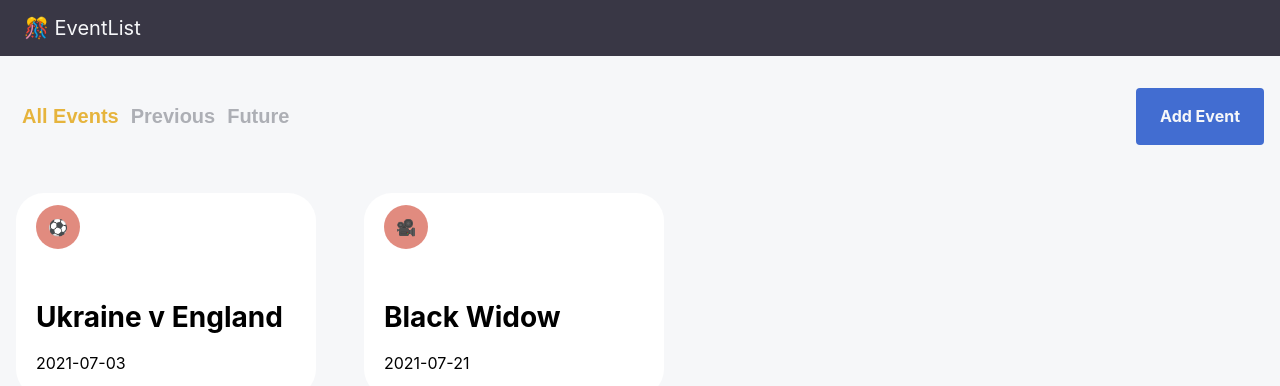
Test: Home page › Filters using All/Prev/Future buttons
What coordinates should you click on to do the following:
click the button "Previous"
I would click on:
 (174, 117)
Its box is [125, 104, 222, 129].
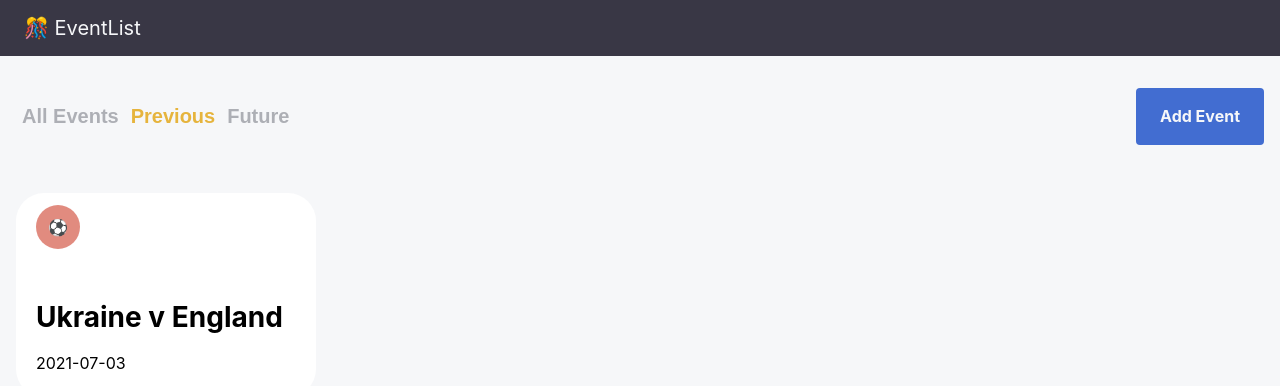
Expected: the number of headings with class "event-title" is 1, [36, 300, 296, 334]
Expected: the heading with class "event-title" reads "Ukraine v England", [36, 300, 283, 334]
What coordinates should you click on to do the following:
click the button "Future"
I would click on:
 (258, 117)
Its box is [221, 104, 295, 129].
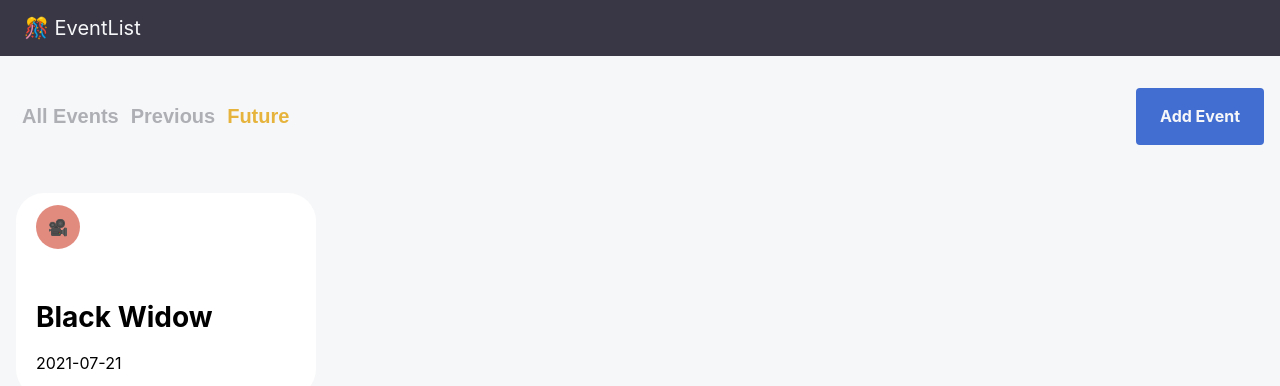
Expected: the number of headings with class "event-title" is 1, [36, 300, 213, 334]
Expected: the heading with class "event-title" reads "Black Widow", [36, 300, 213, 334]
What coordinates should you click on to do the following:
click the button "All Events"
I would click on:
 (71, 117)
Its box is [16, 104, 125, 129].
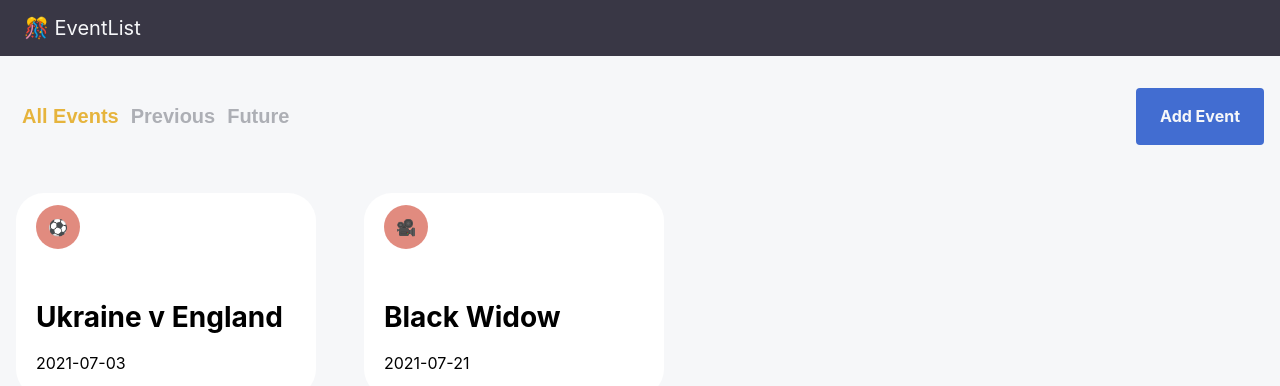
Expected: the heading with class "event-title" reads "Black Widow", [384, 300, 561, 334]
Expected: the number of headings with class "event-title" is 2, [36, 300, 296, 334]; [384, 300, 561, 334]
Expected: the heading with class "event-title" reads "Ukraine v England", [36, 300, 296, 334]
